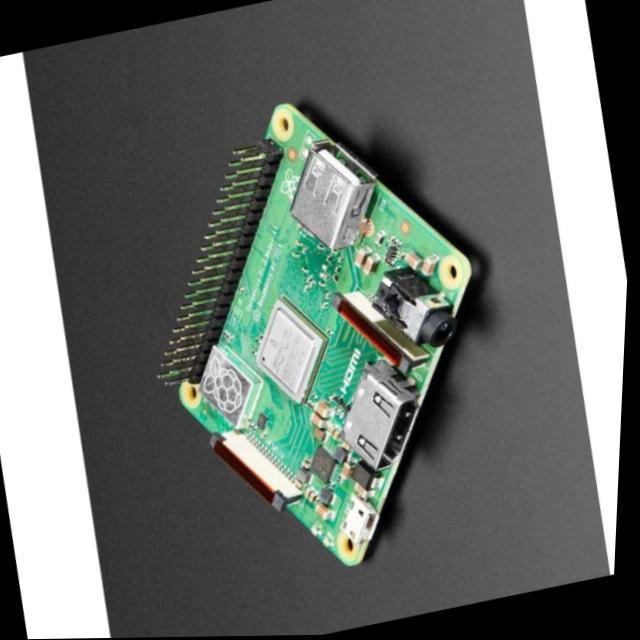Raspberry-Pi-3-A-: (160, 104, 471, 567)
